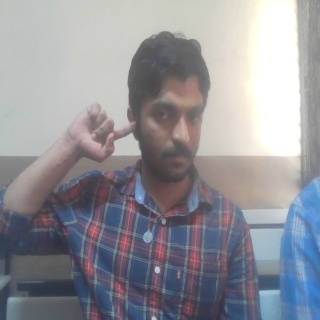Deaf: (64, 101, 138, 164)
Face: (125, 30, 211, 186)
